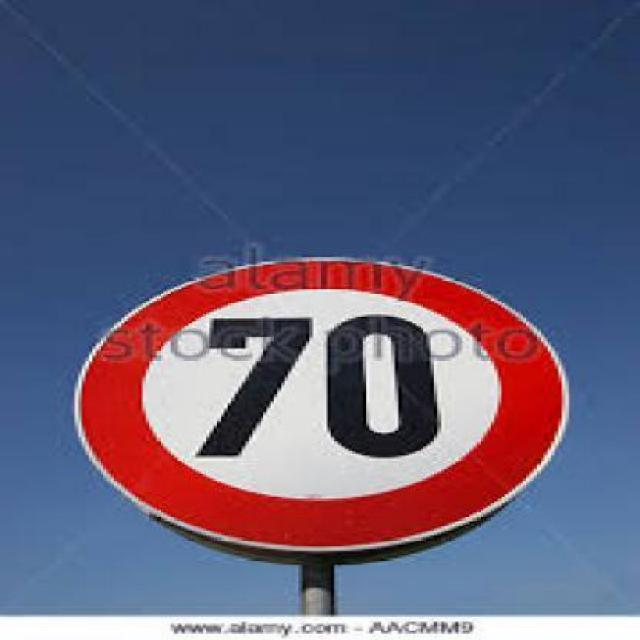speed_limit_70: (85, 273, 562, 547)
